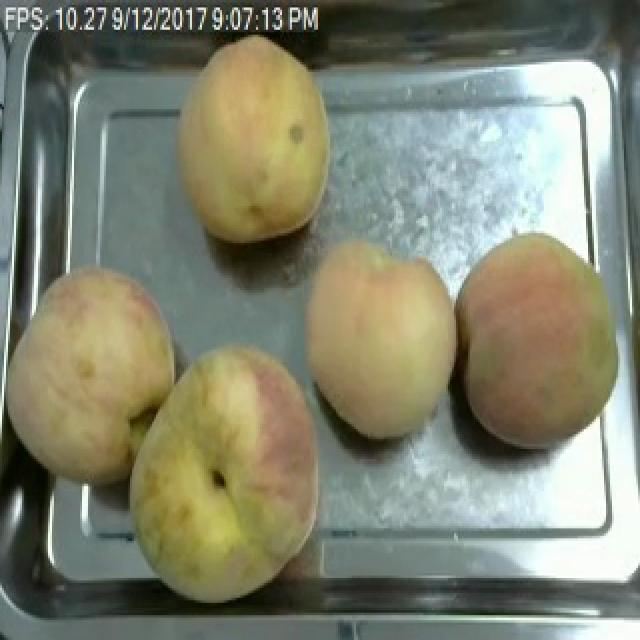Fruit: (108, 330, 340, 613), (2, 253, 192, 494), (448, 231, 636, 459), (166, 27, 344, 253), (290, 228, 470, 449)
